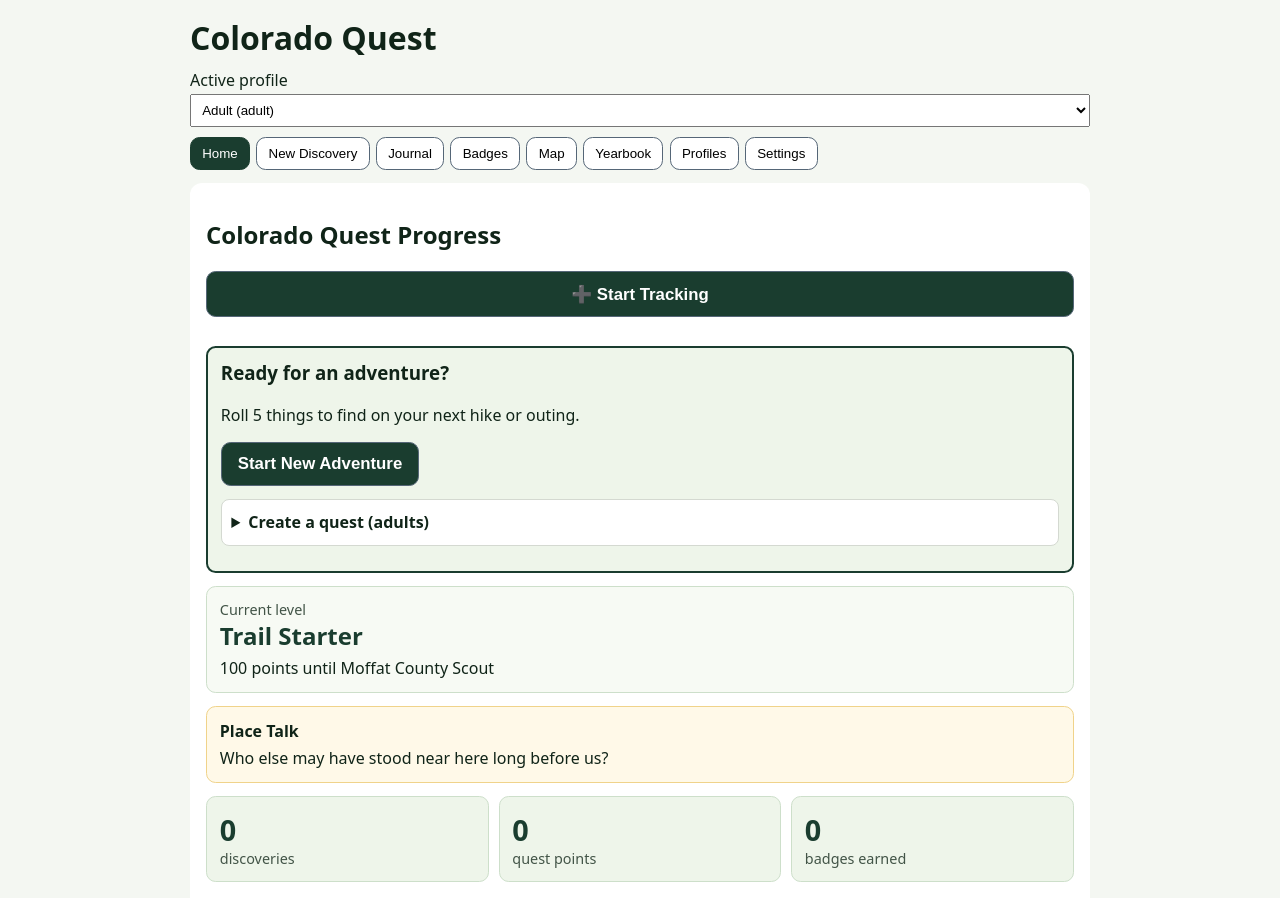
Scenario: hike tracking › opens hike setup modal when Start Tracking is clicked
What coordinates should you click on to do the following:
click the button "➕ Start Tracking"
I would click on:
 (640, 294)
Its box is [206,271,1074,317].
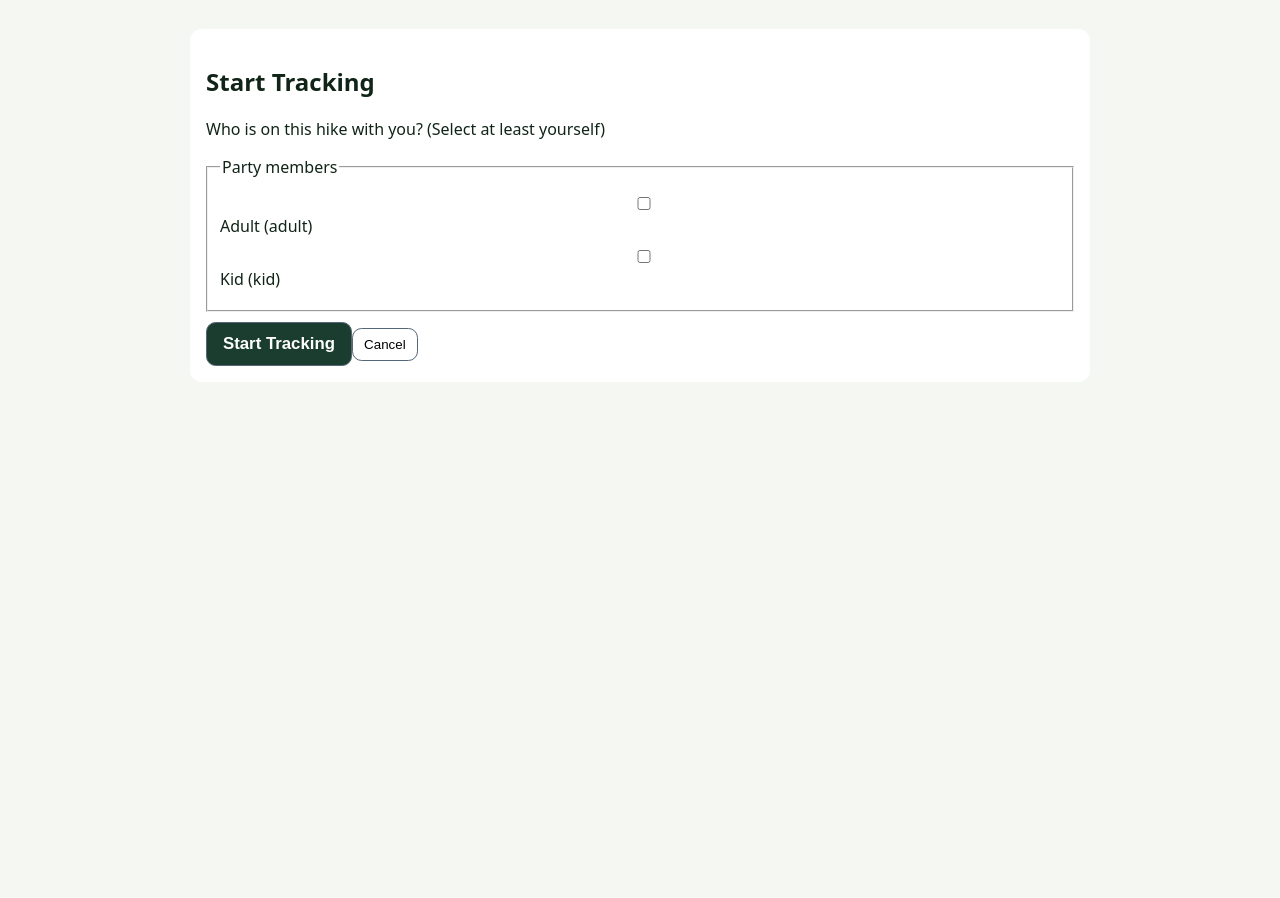
Result: the text "Who is on this hike with you? (Select at least yourself)" is shown at [206,118,605,140]
Result: the checkbox labelled "Adult (adult)" is shown at [224,197,1064,210]
Result: the checkbox labelled "Kid (kid)" is shown at [224,250,1064,263]
